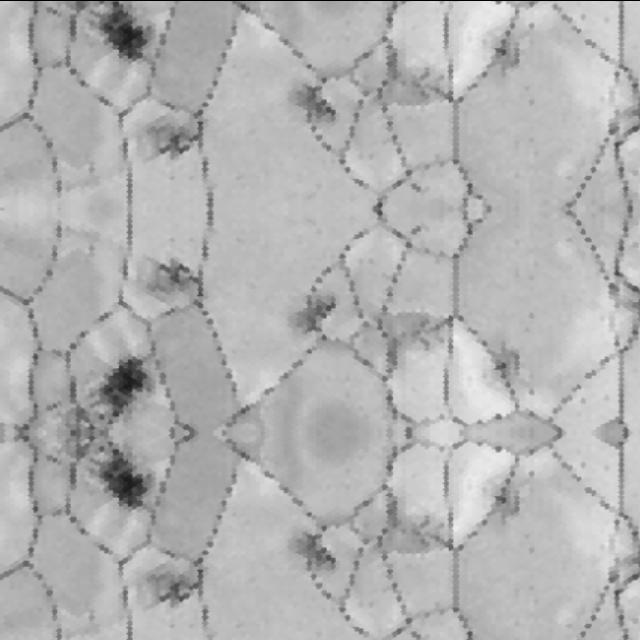good_void: (63, 431, 160, 514), (63, 349, 160, 431), (65, 0, 160, 65), (145, 248, 203, 298), (145, 116, 203, 166), (145, 565, 203, 614), (286, 291, 342, 339), (286, 75, 342, 123), (286, 524, 342, 572), (479, 333, 526, 384), (479, 30, 526, 81), (479, 479, 526, 529), (409, 222, 423, 234), (409, 180, 423, 192), (409, 629, 423, 640), (527, 385, 538, 394), (527, 20, 538, 29), (527, 469, 538, 478), (168, 622, 177, 629), (168, 234, 177, 240), (168, 174, 177, 180)
